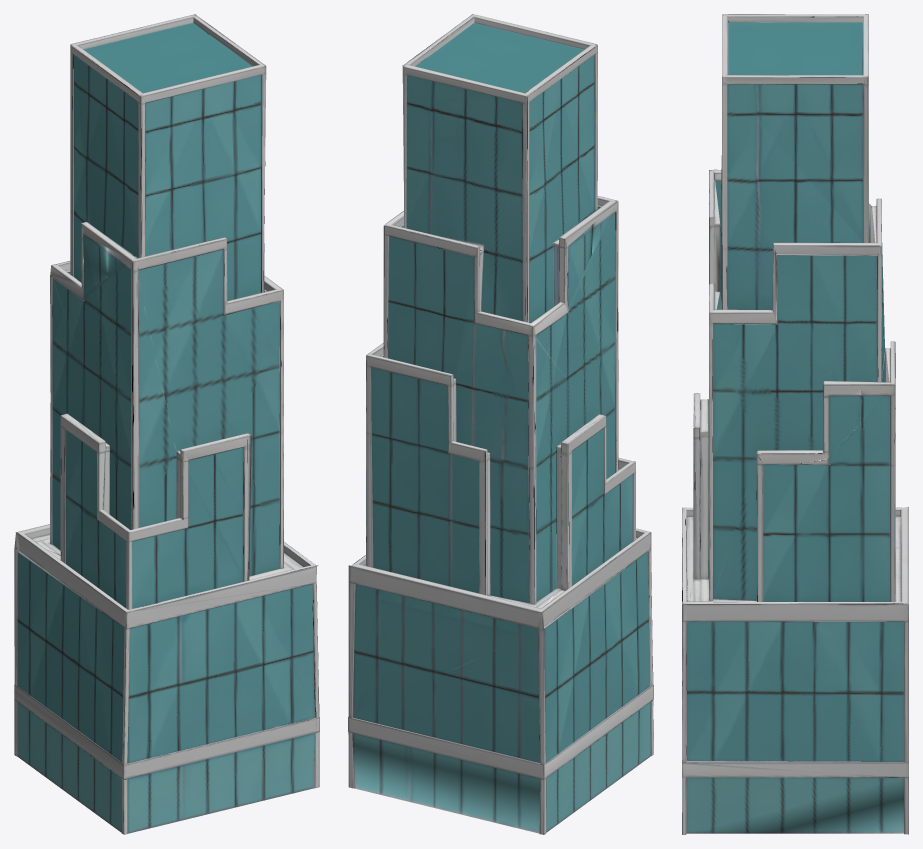
File: 15-glass-skyscraper.glb
3 views of the same model, side by side, from view 1: azimuth 30°, elevation 25°; view 2: azimuth 150°, elevation 25°; view 3: azimuth 270°, elevation 25° (orthographic). The views are drawn at different scales.
Parts seen in each view (by area): view 1: geometry_0; view 2: geometry_0; view 3: geometry_0.
Part boxes in pixels (x1,y1,x2,y2): geometry_0: (14, 14, 319, 834); geometry_0: (348, 14, 653, 834); geometry_0: (682, 14, 908, 834).
Size of the model in its own units: 0.2729 by 0.9512 by 0.2642.
Materials: 1 (1 with a texture image).
